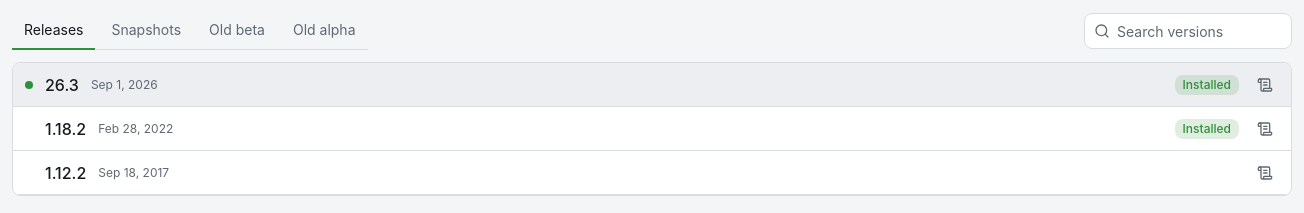
Test case: VersionList › filters by search text and shows an empty message
The image size is (1304, 213).
Type "1.18" into the search field labelled "Search versions".
click(1188, 31); type("1.18")  # box [1084,13,1292,49]
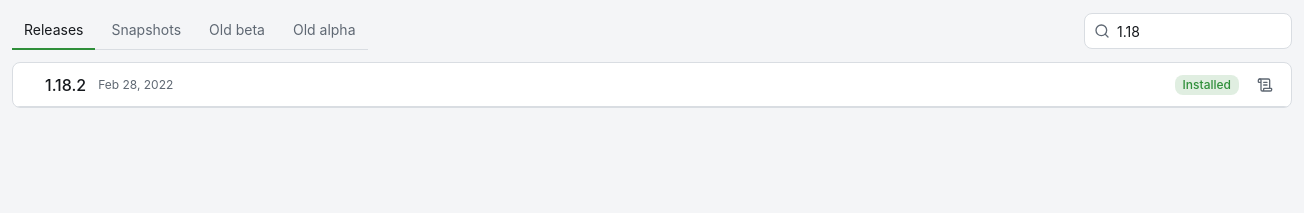
Replace the text in the search field named "Search versions" with "nope" at coordinates (1188, 31), box [1084,13,1292,49]
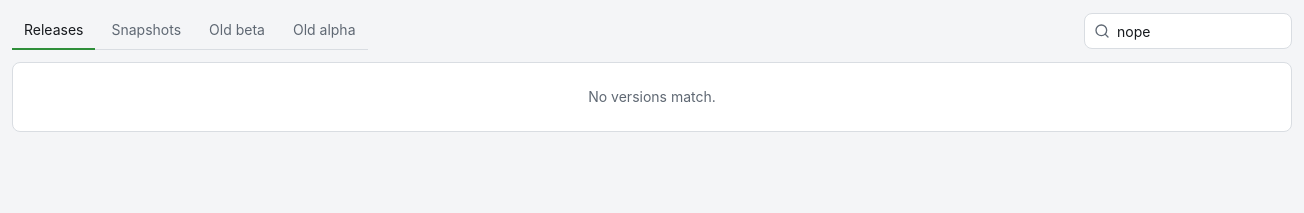
Expected: the text "No versions match." is shown, [588,88,716,105]
